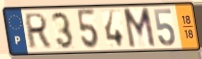3: (51, 11, 76, 50)
4: (105, 8, 127, 49)
5: (75, 8, 100, 52), (152, 7, 177, 48)
M: (122, 6, 158, 50)
R: (24, 12, 52, 51)
